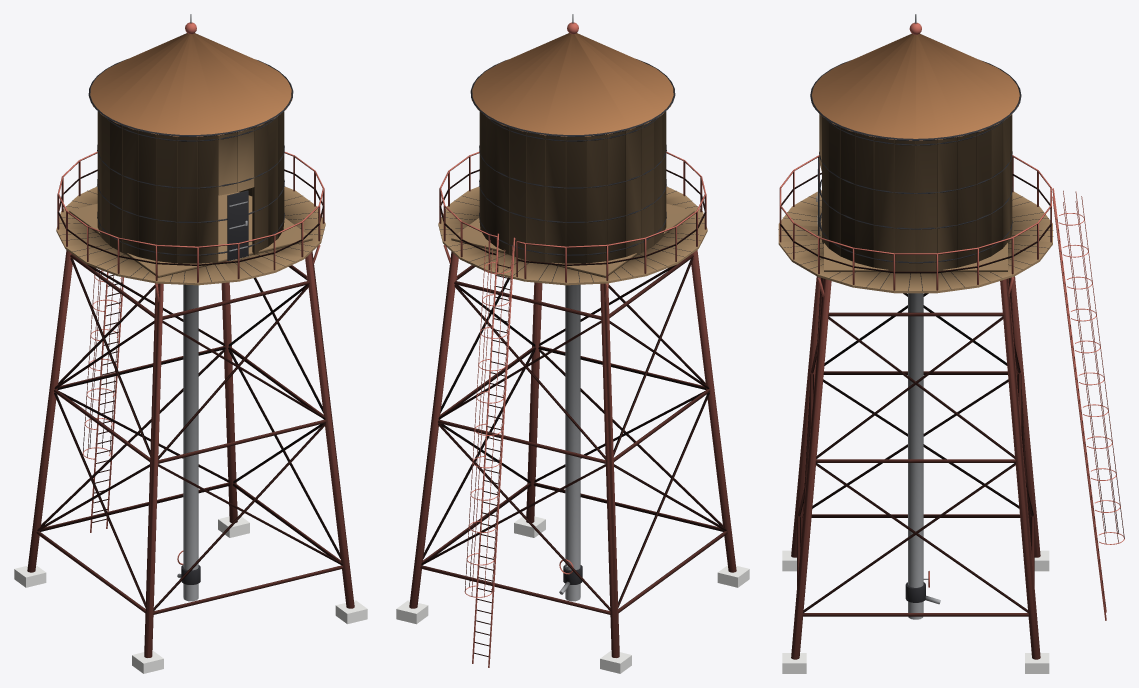
Rendered from watertower.glb.
The picture shows the model from 3 angles, left to right: view 1: azimuth 30°, elevation 25°; view 2: azimuth 150°, elevation 25°; view 3: azimuth 270°, elevation 25°; orthographic projection. The views are drawn at different scales.
Parts seen in each view (by area): view 1: PART, DOOR_tank; view 2: PART; view 3: PART.
Part boxes in pixels (bbox=[...]): PART: bbox=[14, 14, 367, 673]; DOOR_tank: bbox=[227, 190, 248, 260]; PART: bbox=[396, 14, 749, 673]; PART: bbox=[778, 14, 1124, 673].
Size of the model in its own units: 7.04 by 17.01 by 8.86.
